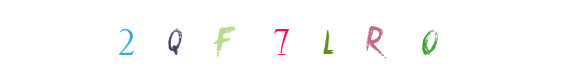2: (87, 0, 167, 80)
7: (242, 0, 322, 80)
F: (236, 0, 316, 80)
L: (247, 0, 327, 80)
O: (343, 0, 423, 80)
Q: (134, 0, 214, 80)
R: (306, 0, 386, 80)
